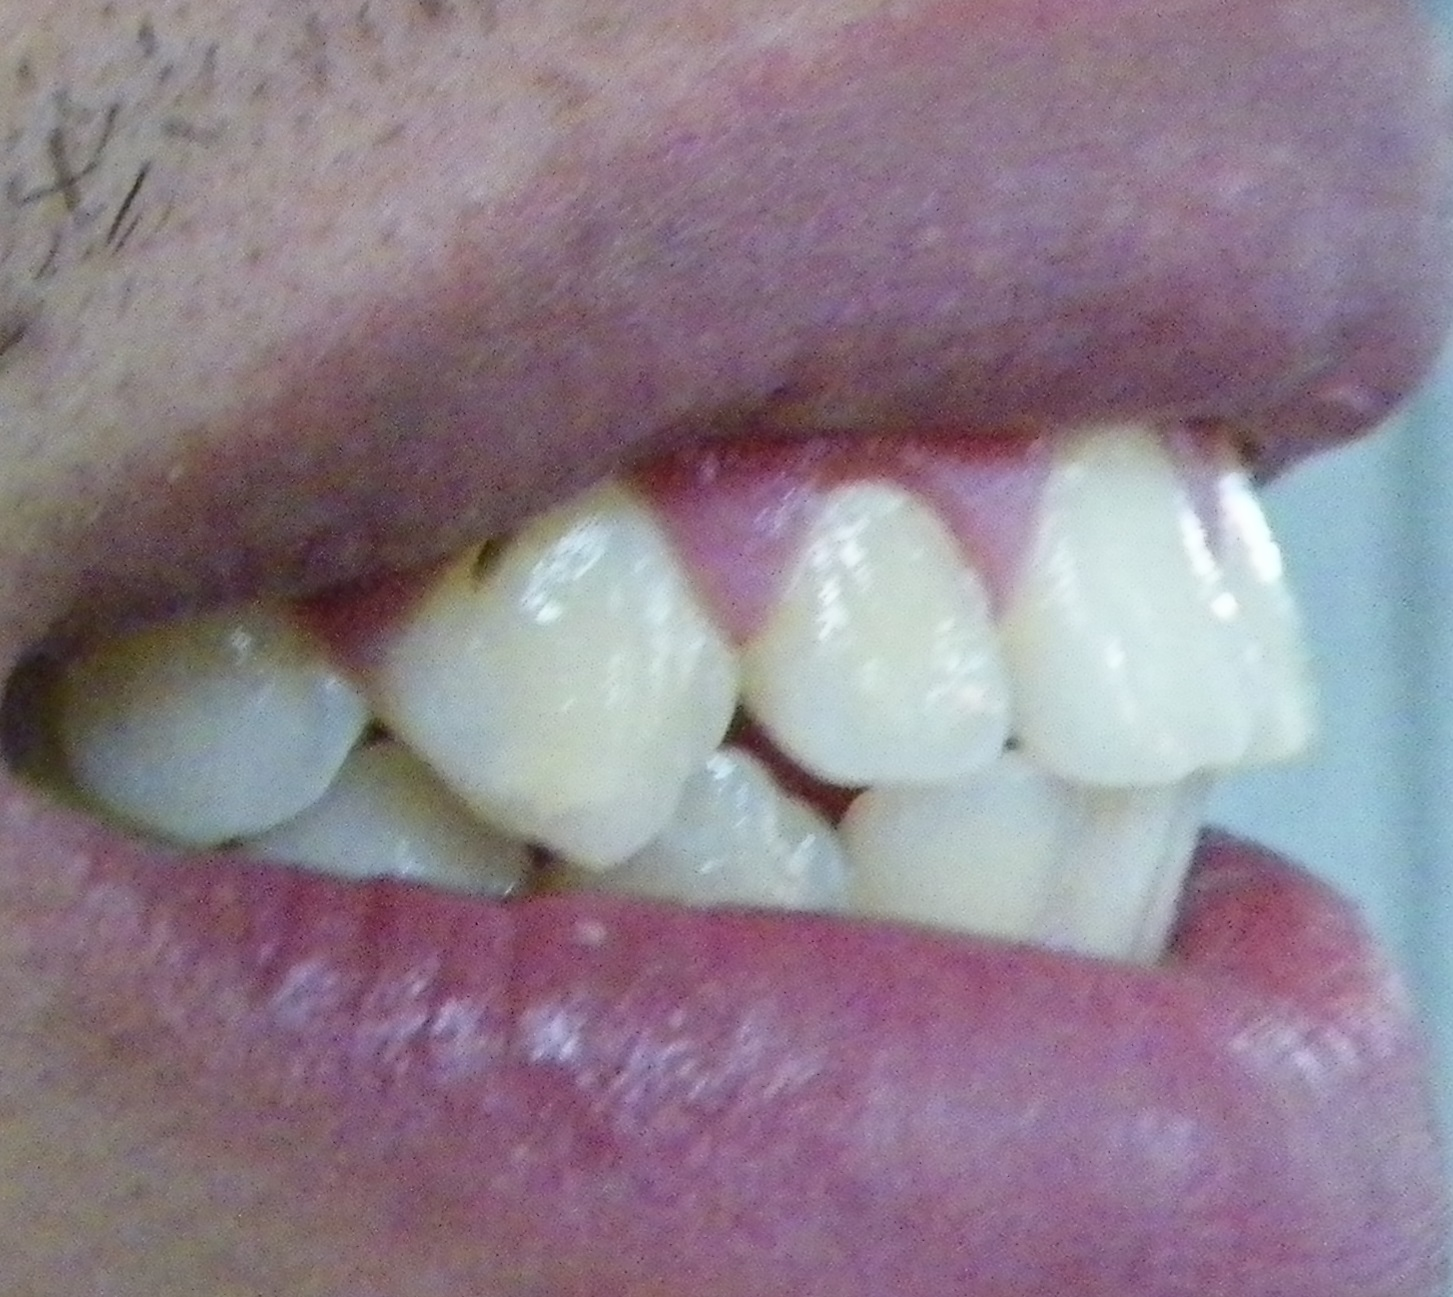boca: (55, 449, 1318, 958)
